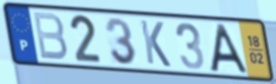2: (70, 13, 105, 65)
3: (104, 16, 139, 67), (175, 21, 205, 71)
A: (209, 23, 251, 76)
B: (31, 10, 70, 63)
K: (138, 18, 173, 69)
